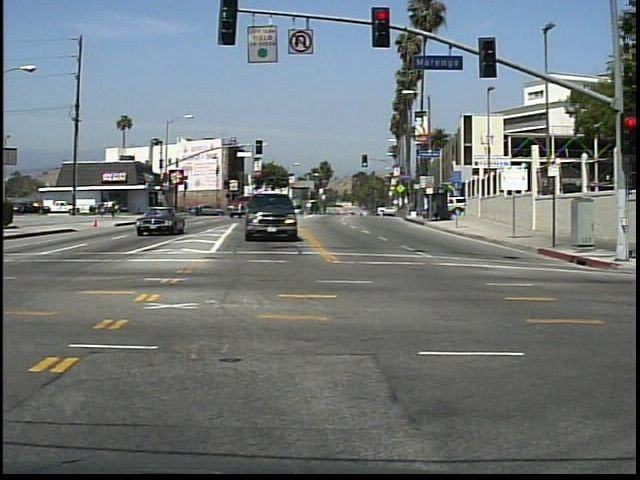person: (109, 196, 122, 222)
